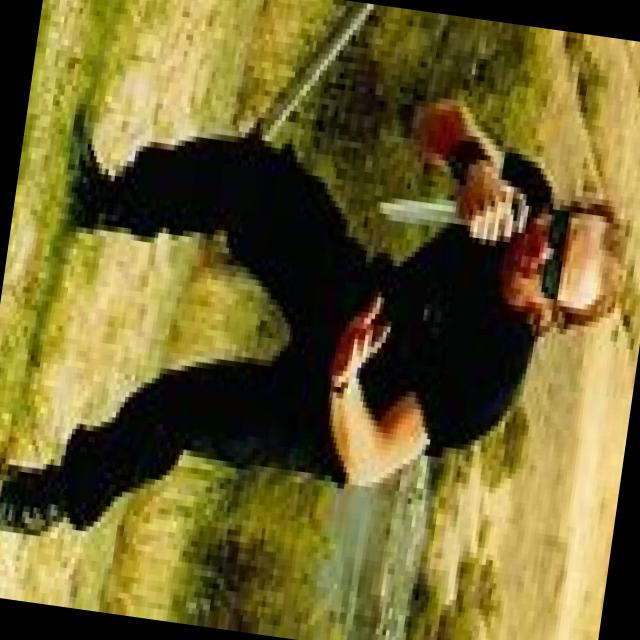knife: (367, 152, 523, 265)
